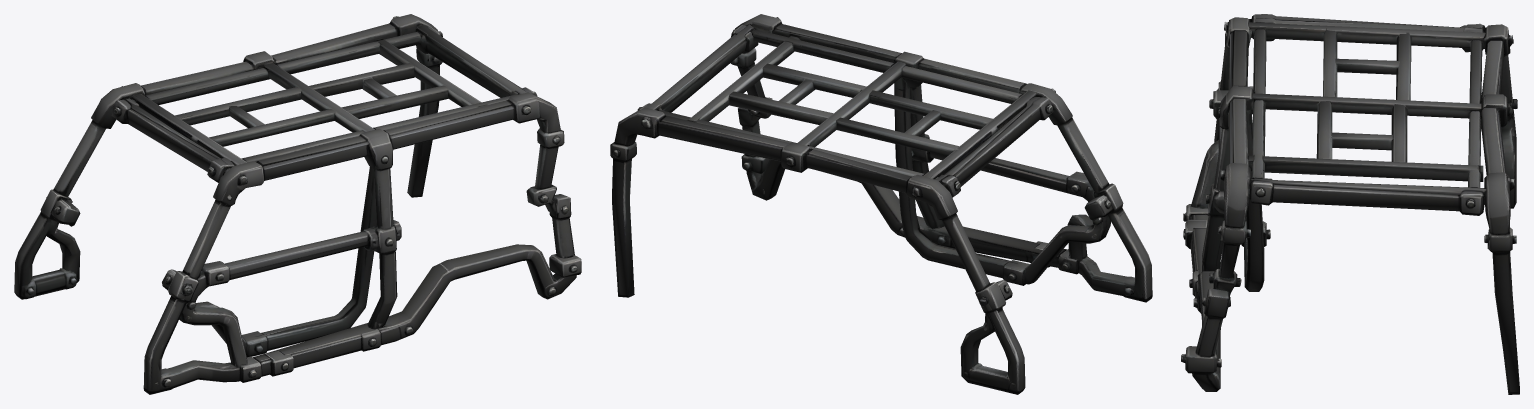
File: bunker-reinforced_frame.glb
3 renders of one model, left to right at view 1: azimuth 30°, elevation 25°; view 2: azimuth 150°, elevation 25°; view 3: azimuth 270°, elevation 25°, orthographic. The views are drawn at different scales.
Parts seen in each view (by area): view 1: tripo_node_e70eb6df-8524-4681-88cf-7fabb1c90342; view 2: tripo_node_e70eb6df-8524-4681-88cf-7fabb1c90342; view 3: tripo_node_e70eb6df-8524-4681-88cf-7fabb1c90342.
Part boxes in pixels (x1,y1,x2,y2): tripo_node_e70eb6df-8524-4681-88cf-7fabb1c90342: [14, 14, 581, 394]; tripo_node_e70eb6df-8524-4681-88cf-7fabb1c90342: [610, 14, 1152, 394]; tripo_node_e70eb6df-8524-4681-88cf-7fabb1c90342: [1181, 14, 1519, 394].
Bounding box in the file's own units: 3.4 × 1.54 × 2.16.
1 material, 1 textured.
